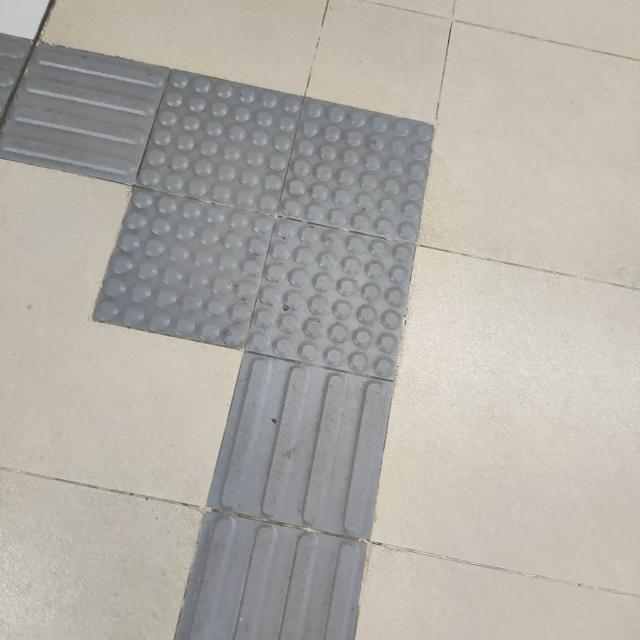kiri: (0, 28, 499, 450)
